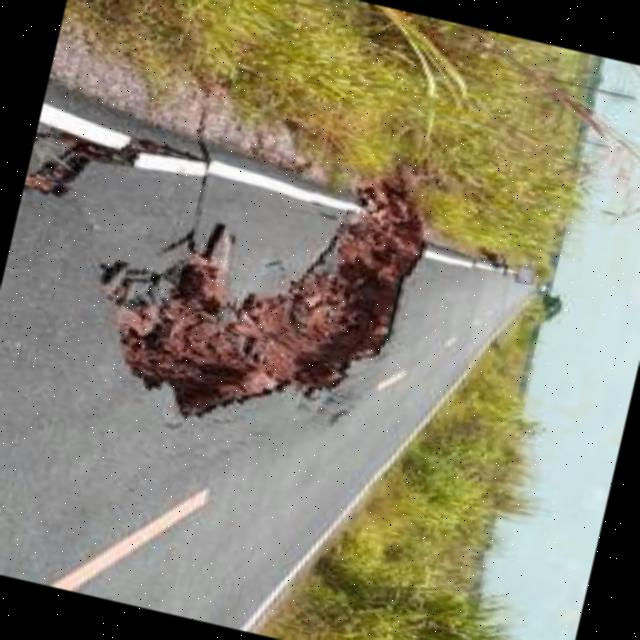road collapse: (0, 24, 518, 509)
